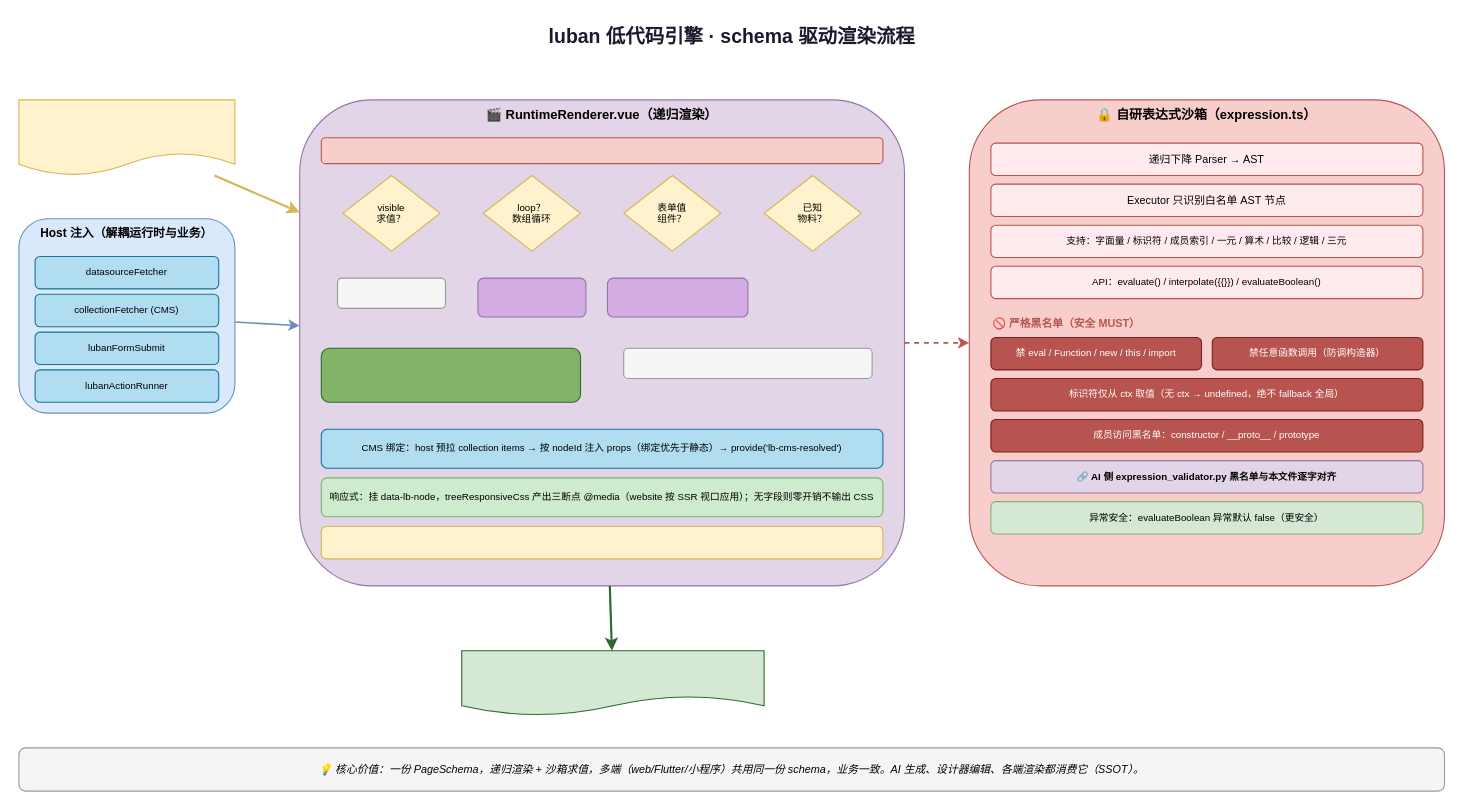
Some shapes in this 1463 by 810 pixel diagram are drawn without their labels. The shapes that lost their labels are listed below. From the top down, each one's centre as x and y in pixels, then its label:
the point at 126,137: 📋 PageSchema（SSOT） { root: NodeSchema, formState, seo }
the point at 601,150: ErrorBoundary 包裹（单物料崩溃不致整页空白）
the point at 391,292: false → 不渲染
the point at 531,297: 按 item 重复 注入 ctx
the point at 677,297: v-model 绑 formState 实时校验→formErrors
the point at 450,374: 普通组件渲染 props(含插值)+events+style + 子节点/slot 递归
the point at 747,363: 未知类型 → 仅渲染 children
the point at 601,542: 表达式上下文 evalCtx = { ...ctx(数据源), $form(表单值) }
the point at 612,683: 🖼️ 真实 Vue 组件树（渲染到 DOM）
